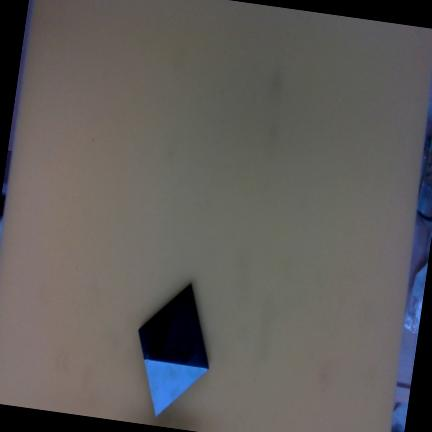tile: (130, 282, 216, 418)
